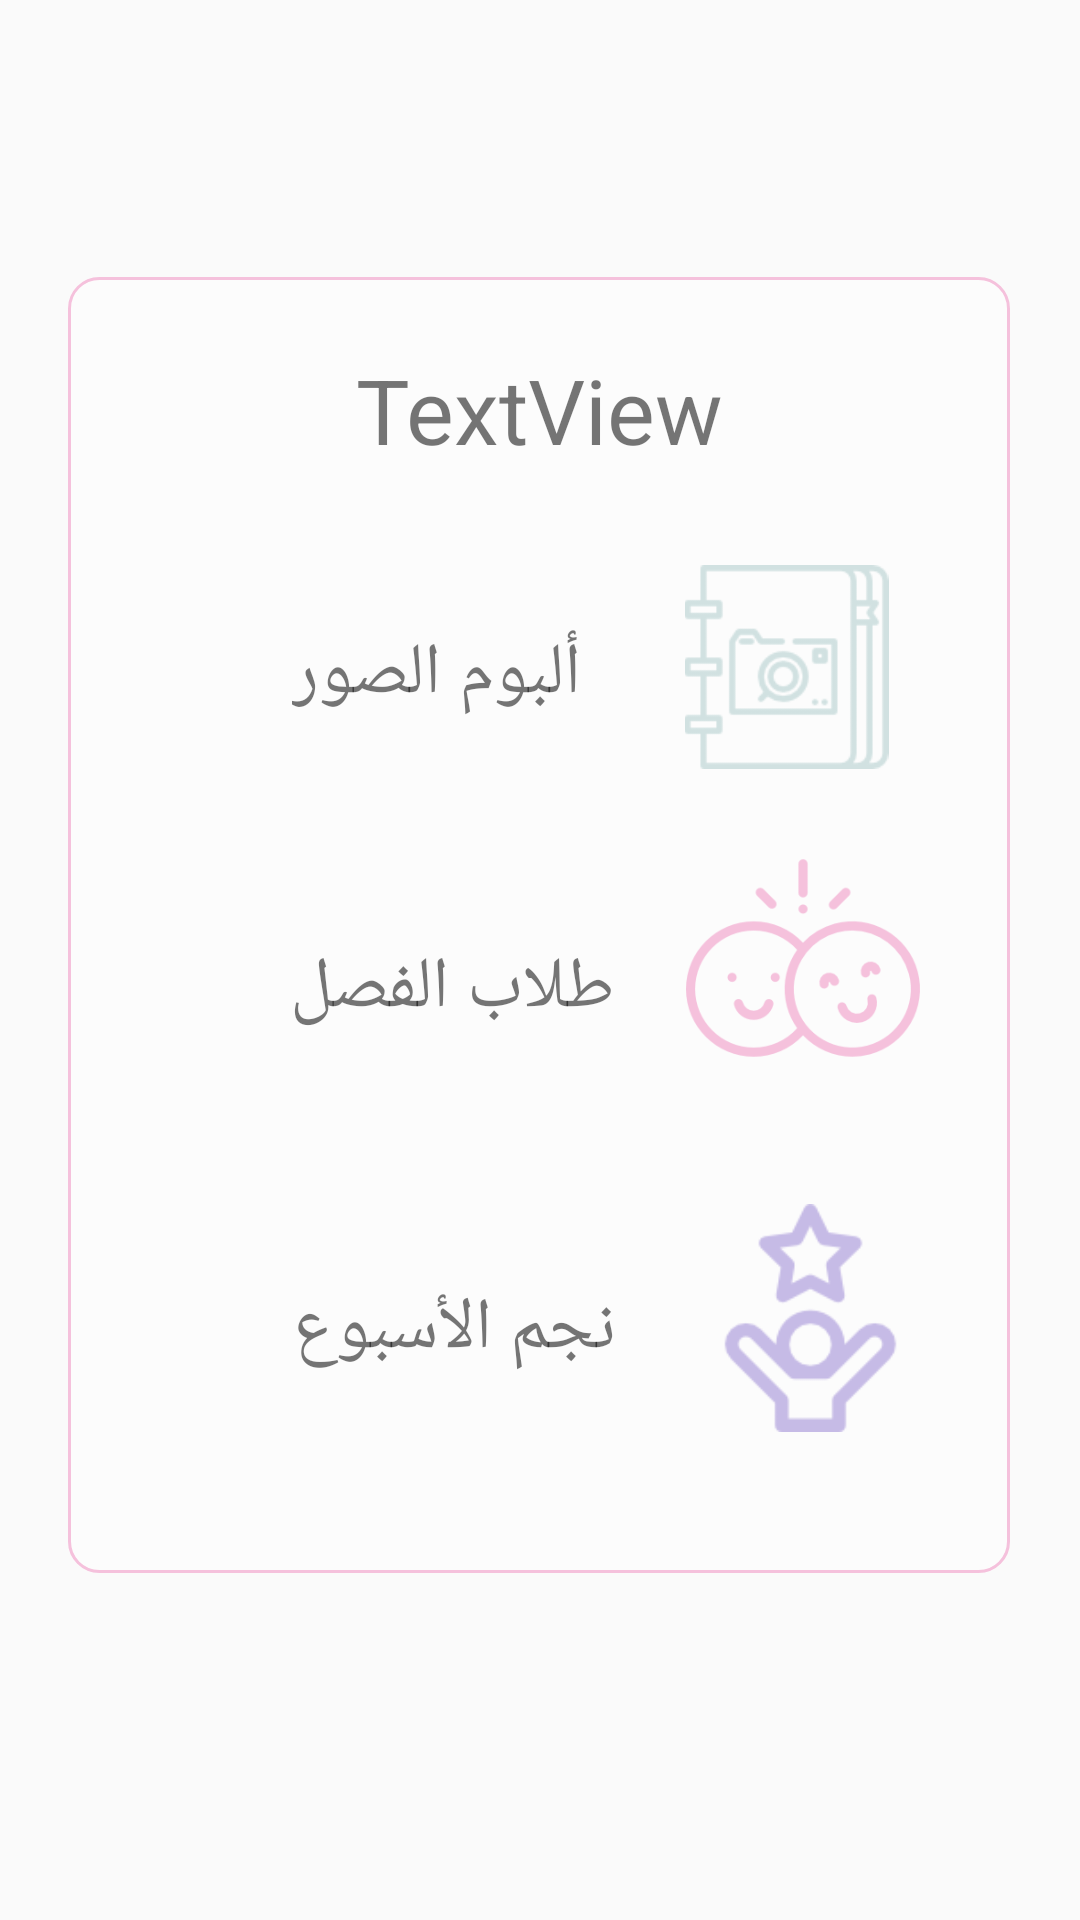

Where to tap for icons on this 1080*1920 app screen, as [x,y]:
photoalbum: [787,667]
smile: [803,958]
talent: [810,1318]
